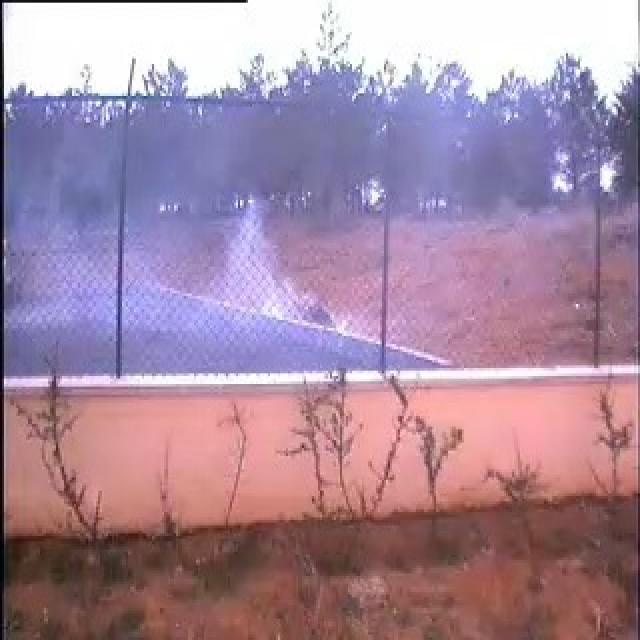smoke: (118, 106, 394, 370)
